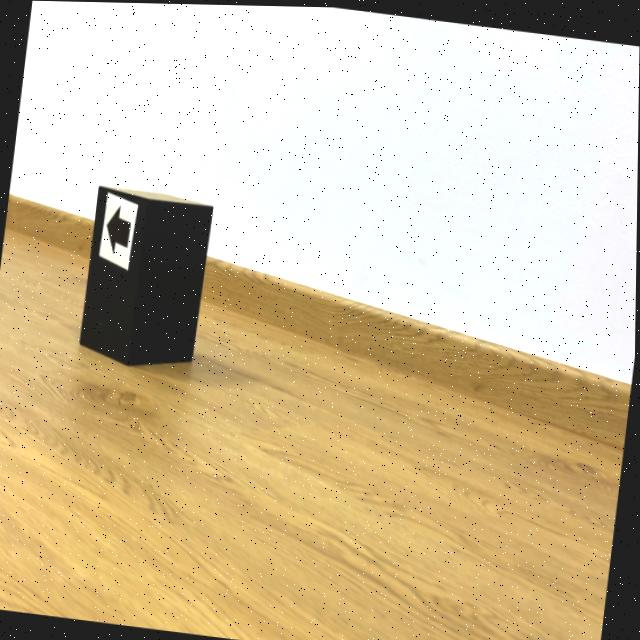LEFT: (106, 206, 132, 252)
